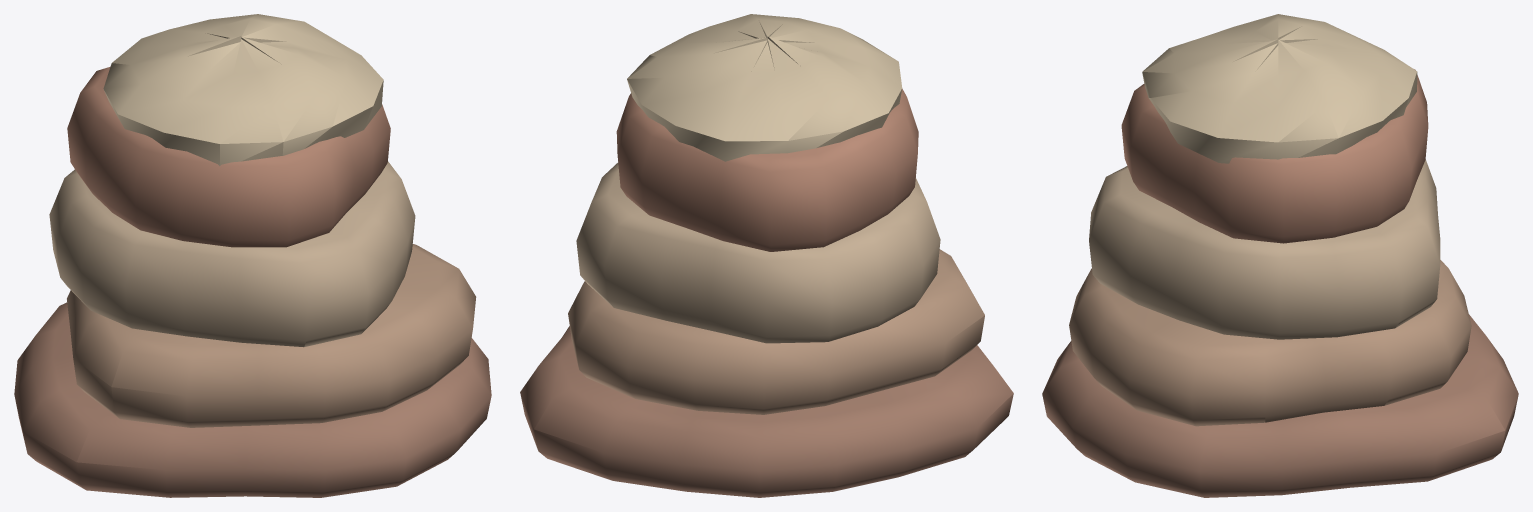
File: cen_tarhut_rocha_0.glb
3 views of the same model, side by side, from view 1: azimuth 30°, elevation 25°; view 2: azimuth 150°, elevation 25°; view 3: azimuth 270°, elevation 25° (orthographic). The views are drawn at different scales.
Parts seen in each view (by area): view 1: rocha; view 2: rocha; view 3: rocha.
Boxes of the visible parts, <box> form: rocha: <box>14,14,491,497</box>; rocha: <box>520,14,1013,497</box>; rocha: <box>1042,14,1518,497</box>.
Size of the model in its own units: 1.85 by 1.58 by 1.86.
